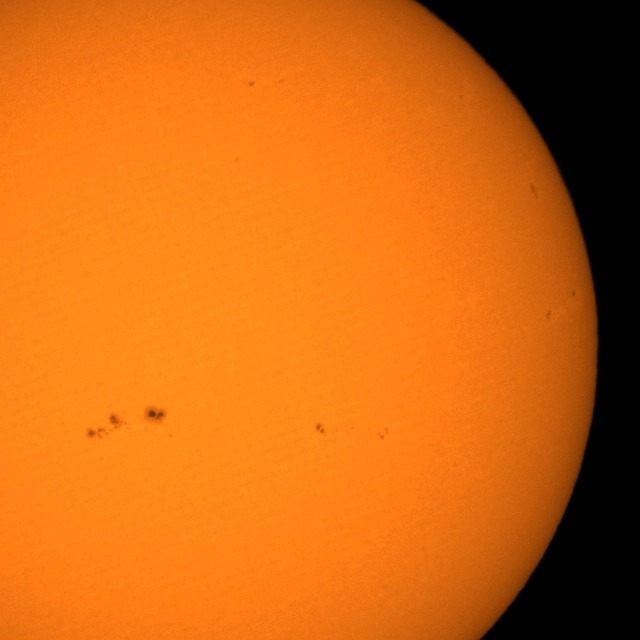sunspot: (85, 413, 128, 440), (143, 405, 168, 425), (528, 181, 540, 201), (377, 427, 390, 441), (314, 422, 326, 435), (569, 289, 577, 299), (247, 80, 256, 88), (350, 426, 355, 430)
